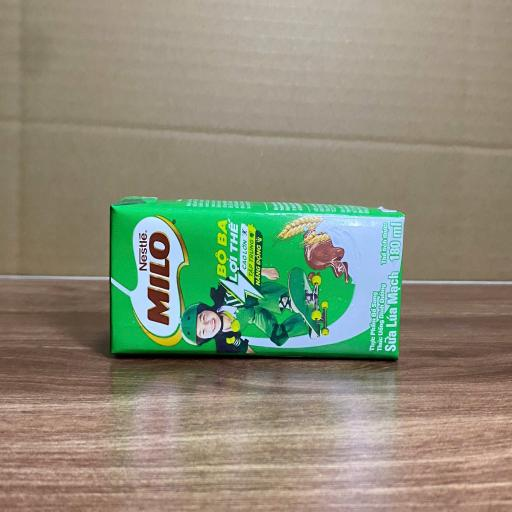milo: (110, 199, 408, 361)
